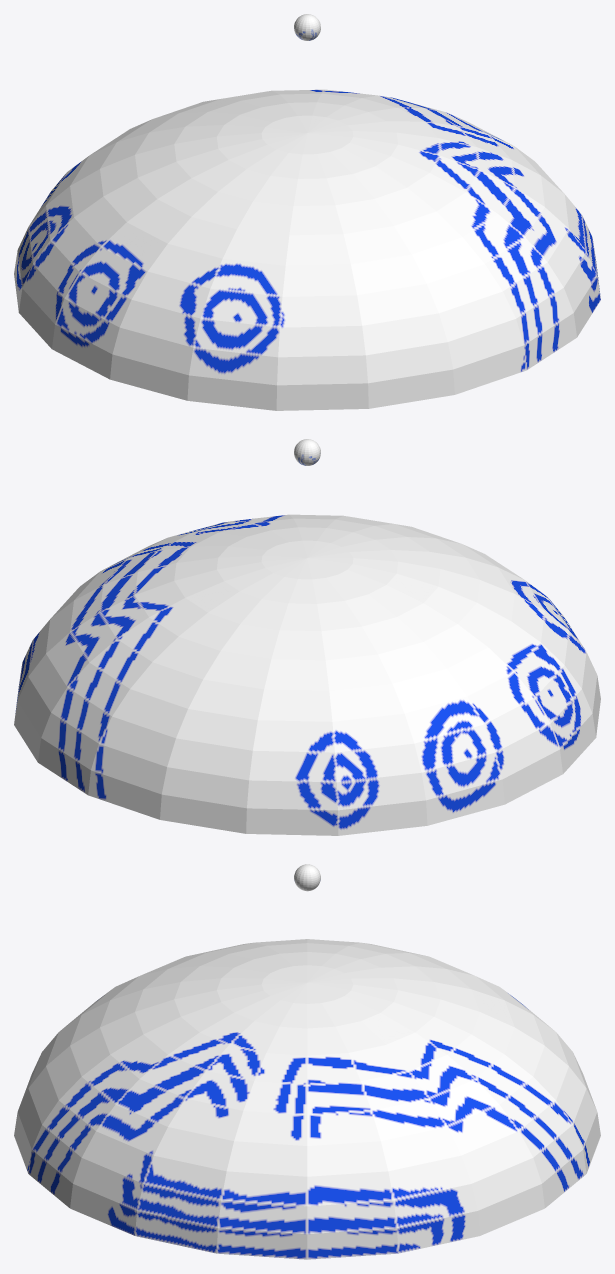
File: rhumba_move.fbx
The picture shows the model from 3 angles, top to bottom: view 1: azimuth 30°, elevation 25°; view 2: azimuth 150°, elevation 25°; view 3: azimuth 270°, elevation 25°; orthographic projection.
Visible parts, largest first — view 1: rhumbaUV:headusOBJexport; view 2: rhumbaUV:headusOBJexport; view 3: rhumbaUV:headusOBJexport.
Boxes of the visible parts, x1,y1,x2,y2 form: rhumbaUV:headusOBJexport: (14,14,600,410); rhumbaUV:headusOBJexport: (14,439,600,835); rhumbaUV:headusOBJexport: (14,864,600,1259).
Bounding box in the file's own units: 4.22 × 2.15 × 4.22.
